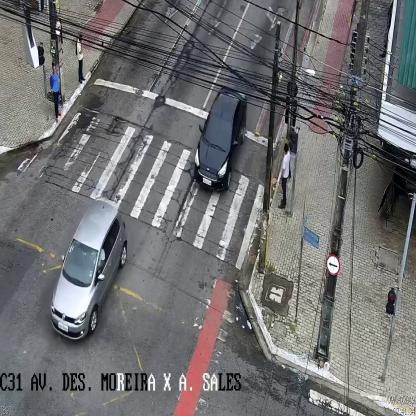car: (51, 201, 127, 340), (194, 86, 245, 191)
person: (278, 143, 291, 209), (51, 64, 63, 123), (74, 33, 84, 84)
